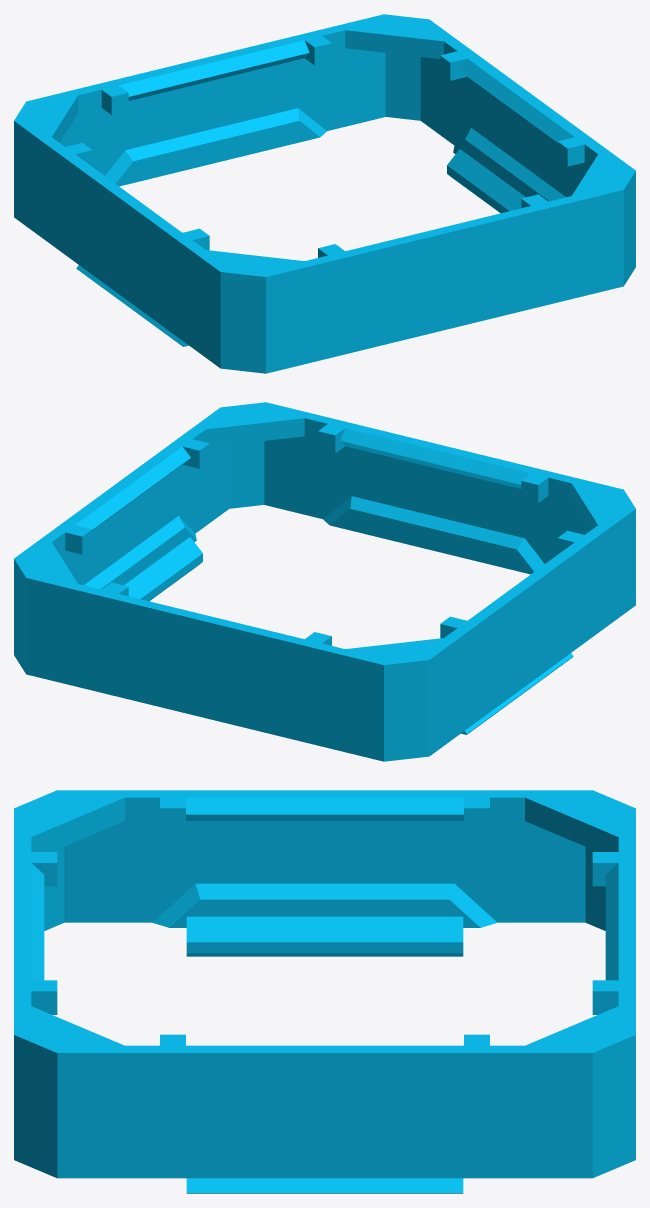
File: Spacer_Empty.glb
3 views of the same model, one above another, from view 1: azimuth 30°, elevation 25°; view 2: azimuth 150°, elevation 25°; view 3: azimuth 270°, elevation 25° (orthographic). The views are drawn at different scales.
Parts seen in each view (by area): view 1: Node1; view 2: Node1; view 3: Node1.
Part boxes in pixels (bbox=[...]): Node1: bbox=[14, 14, 635, 373]; Node1: bbox=[14, 402, 635, 761]; Node1: bbox=[14, 790, 635, 1193].
Bounding box in the file's own units: 72 × 19 × 72.
